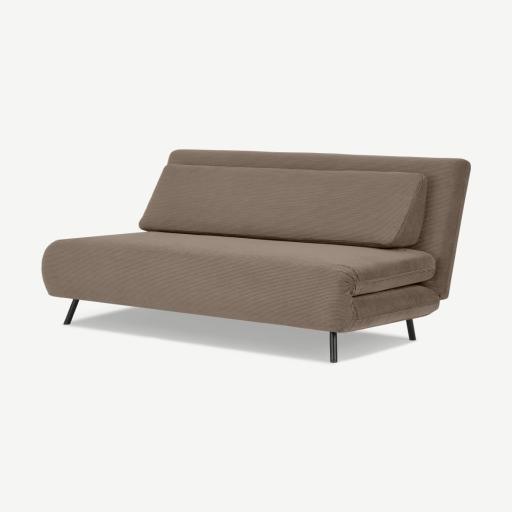back_cushion: (139, 157, 426, 247)
legs: (64, 300, 78, 324), (330, 332, 337, 363), (406, 319, 416, 340)
one-seater: (0, 0, 511, 512)
seat_cushion: (42, 232, 412, 332)
